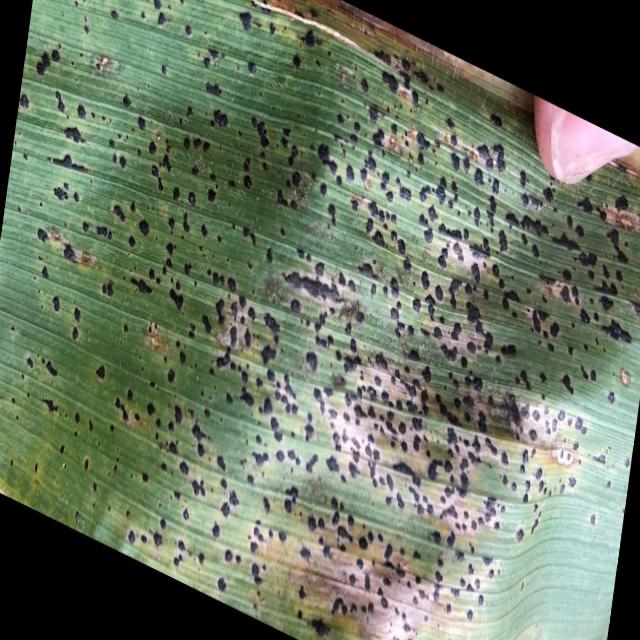Tar_Spot: (2, 1, 637, 637)
